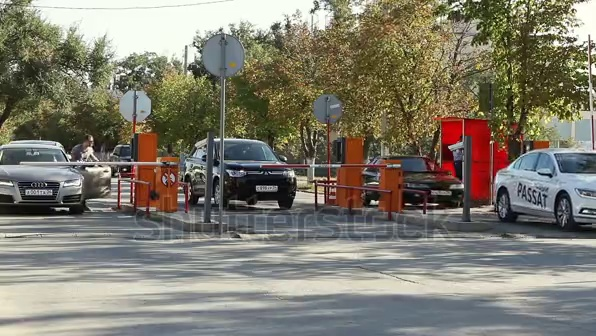licenseplate: (252, 181, 287, 192), (24, 191, 54, 201)
